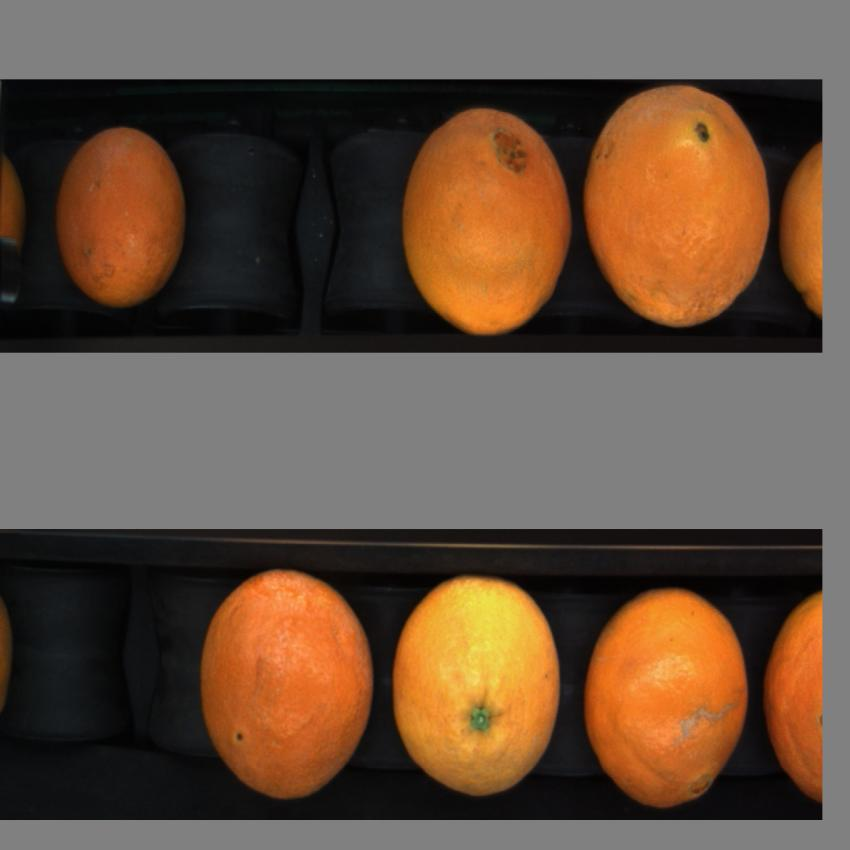Buen estado: (584, 88, 774, 335), (397, 102, 572, 343), (392, 572, 562, 801), (586, 592, 751, 807), (54, 125, 190, 307), (762, 588, 822, 804), (776, 132, 824, 325)
Mal estado: (196, 564, 377, 812)
